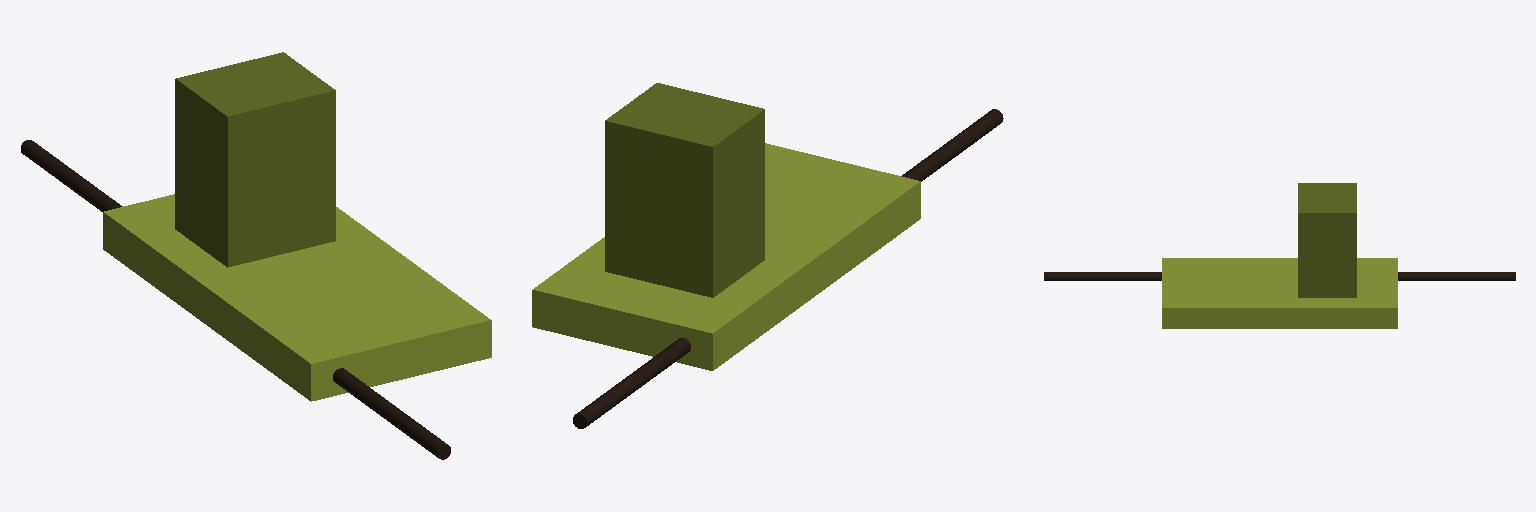
The robot description file, URDF, robot "litter":
<?xml version="1.0" ?>
<robot name="litter">
	<link name="platform">
		<inertial>
			<origin xyz="0 0 0" rpy="0 0 0" />
			<mass value="5"/>
			<inertia ixx="1" ixy="0" ixz="0"
			iyy="1" iyz="0"
			izz="1" />
		</inertial>
		<visual>
			<geometry>
				<mesh filename="package://mc_int_obj_description/meshes/litter/platform.stl" />
			</geometry>
			<material name="Platform">
				<color rgba="0.5653786659240723 0.6266508102416992 0.2433052808046341 1" />
			</material>
		</visual>
	</link>

	<link name="chair">
		<inertial>
			<origin xyz="0 0 0" rpy="0 0 0" />
			<mass value="1"/>
			<inertia ixx="1" ixy="0" ixz="0"
			iyy="1" iyz="0"
			izz="1" />
		</inertial>
		<visual>
			<geometry>
				<mesh filename="package://mc_int_obj_description/meshes/litter/chair.stl" />
			</geometry>
			<material name="Chair">
				<color rgba="0.4041687250137329 0.4479699730873108 0.1739301085472107 1" />
			</material>
		</visual>
	</link>

	<link name="right_pole">
		<inertial>
			<origin xyz="0 0 0" rpy="0 0 0" />
			<mass value="1"/>
			<inertia ixx="1" ixy="0" ixz="0"
			iyy="1" iyz="0"
			izz="1" />
		</inertial>
		<visual>
			<geometry>
				<mesh filename="package://mc_int_obj_description/meshes/litter/right_pole.stl" />
			</geometry>
		        <material name="Pole">
				<color rgba="0.17885641753673553 0.13876530528068542 0.11056750267744064 1" />
		        </material>
		</visual>
	</link>

	<link name="left_pole">
		<inertial>
			<origin xyz="0 0 0" rpy="0 0 0" />
			<mass value="1"/>
			<inertia ixx="1" ixy="0" ixz="0"
			iyy="1" iyz="0"
			izz="1" />
		</inertial>
		<visual>
			<geometry>
				<mesh filename="package://mc_int_obj_description/meshes/litter/left_pole.stl" />
			</geometry>
		        <material name="Pole">
				<color rgba="0.17885641753673553 0.13876530528068542 0.11056750267744064 1" />
		        </material>
		</visual>
	</link>



  <joint name="chair" type="fixed">
    <parent link="platform" />
    <child link="chair" />
    <origin rpy="0.0 0.0 0.0" xyz="0.0 0.20000000298023224 0.25" />
  </joint>

  <joint name="right_pole" type="fixed">
    <parent link="platform" />
    <child link="right_pole" />
    <origin rpy="0.0 0.0 0.0" xyz="-0.17000000178813934 0.0 0.0" />
  </joint>

  <joint name="left_pole" type="fixed">
    <parent link="platform" />
    <child link="left_pole" />
    <origin rpy="0.0 0.0 0.0" xyz="0.17000000178813934 0.0 0.0" />
  </joint>
</robot>

--- Render facts (derived) ---
Views: 3 orthographic renders of the robot side by side, from view 1: azimuth 30°, elevation 25°; view 2: azimuth 150°, elevation 25°; view 3: azimuth 270°, elevation 25°.
Robot: litter — 4 links, 3 joints (3 fixed); root link platform; default pose: every joint at zero.
Links seen in each view (by area): view 1: platform, chair, right_pole; view 2: platform, chair, right_pole; view 3: platform, chair, right_pole.
Boxes of the visible links, x1,y1,x2,y2 form: platform: [103, 194, 491, 401]; chair: [175, 52, 335, 267]; right_pole: [21, 140, 450, 459]; platform: [532, 143, 920, 370]; chair: [605, 83, 764, 297]; right_pole: [573, 109, 1003, 428]; platform: [1162, 258, 1397, 328]; chair: [1298, 183, 1356, 297]; right_pole: [1044, 272, 1515, 280].
Bounding box of the posed robot: 0.5 × 2 × 0.5 m (x, y, z).
Meshes: 4 distinct files referenced, 3 mesh visuals loaded (3 binary STL); not drawn: 1 (reference not matched to a file when rendering).